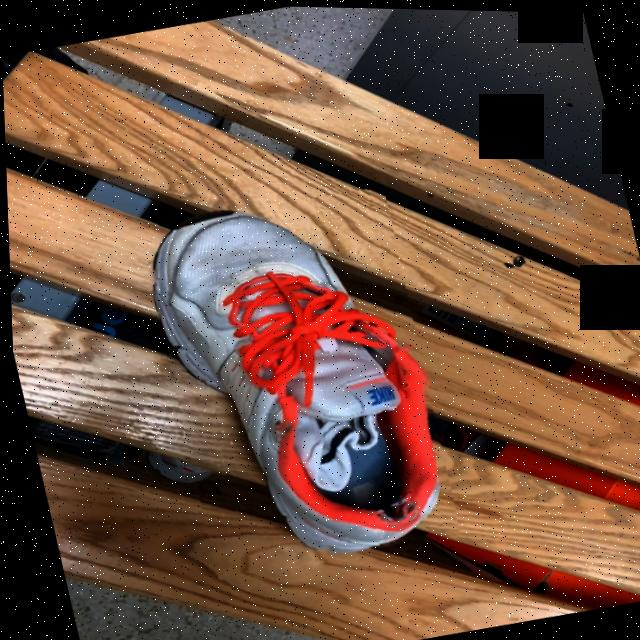shoe: (150, 211, 437, 555)
